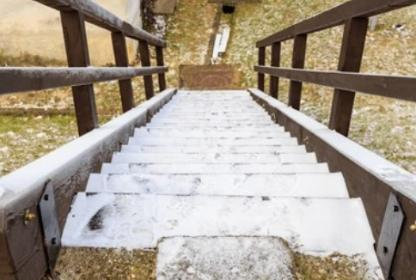stair: (118, 65, 335, 280)
